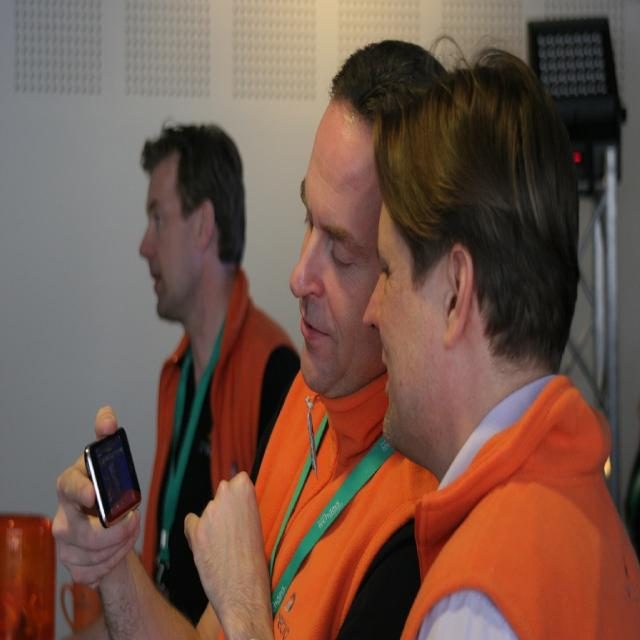Mobile-phone: (63, 416, 139, 543)
